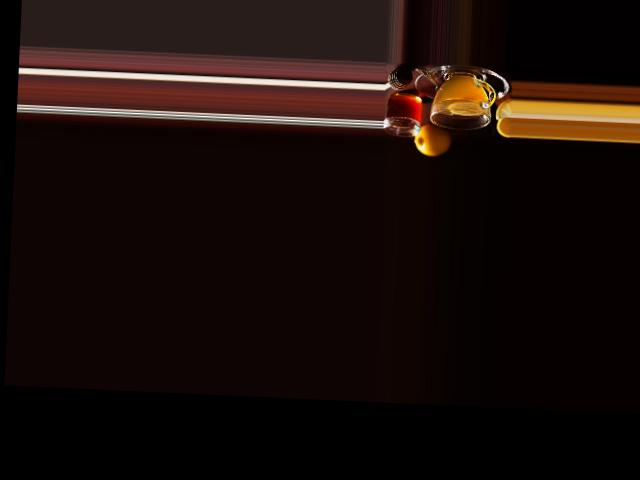lemon: (411, 121, 457, 158)
